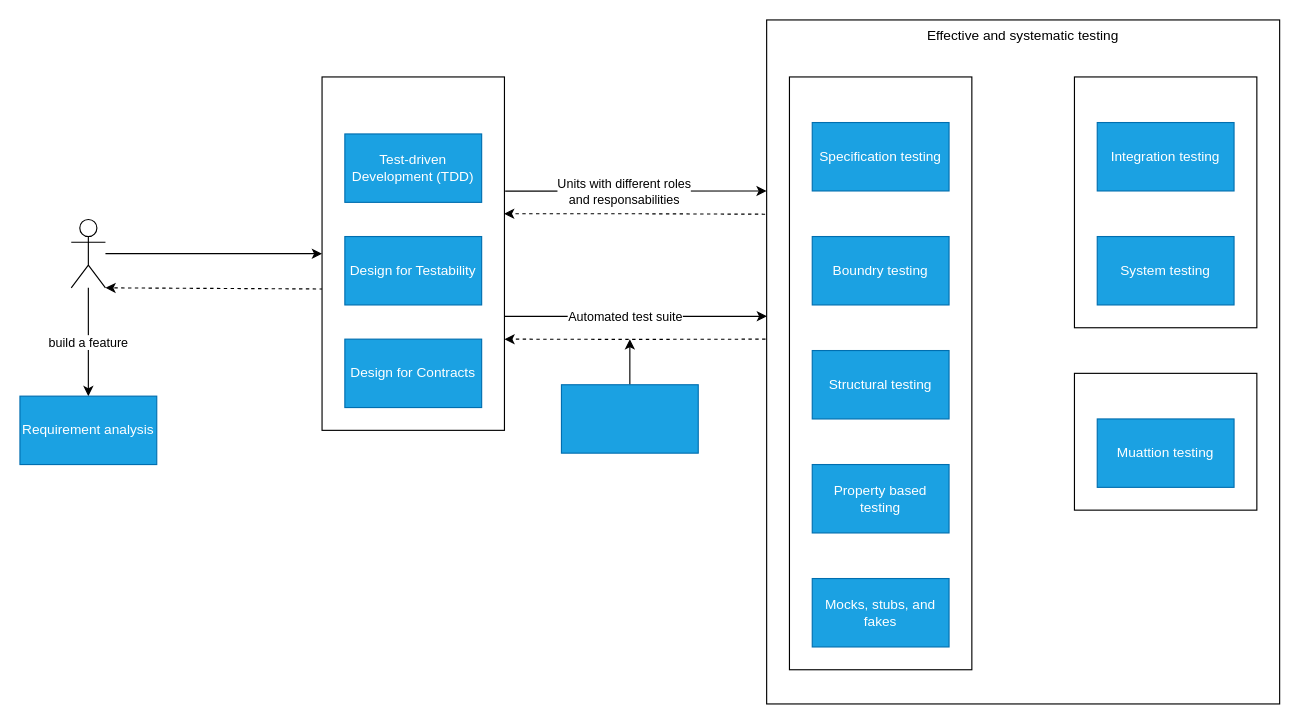
This 1300x724 diagram has some shape labels left out. Each missing label, with the box of its shape:
Developer: (70, 218, 105, 288)
Intelligent testing: (1073, 372, 1257, 510)
Larger tests: (1073, 76, 1257, 328)
Test code quality: (560, 384, 698, 453)
Testing to guide development: (321, 76, 504, 430)
Unit testing: (788, 76, 972, 670)
